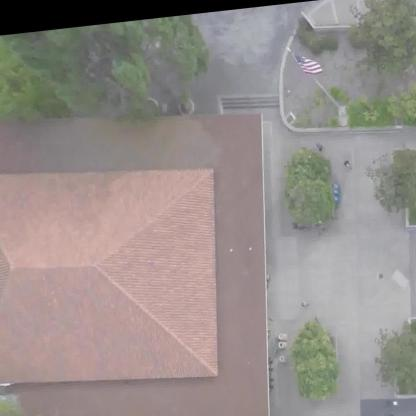Pedestrian: (312, 138, 326, 152), (345, 157, 356, 170), (300, 296, 308, 310)
